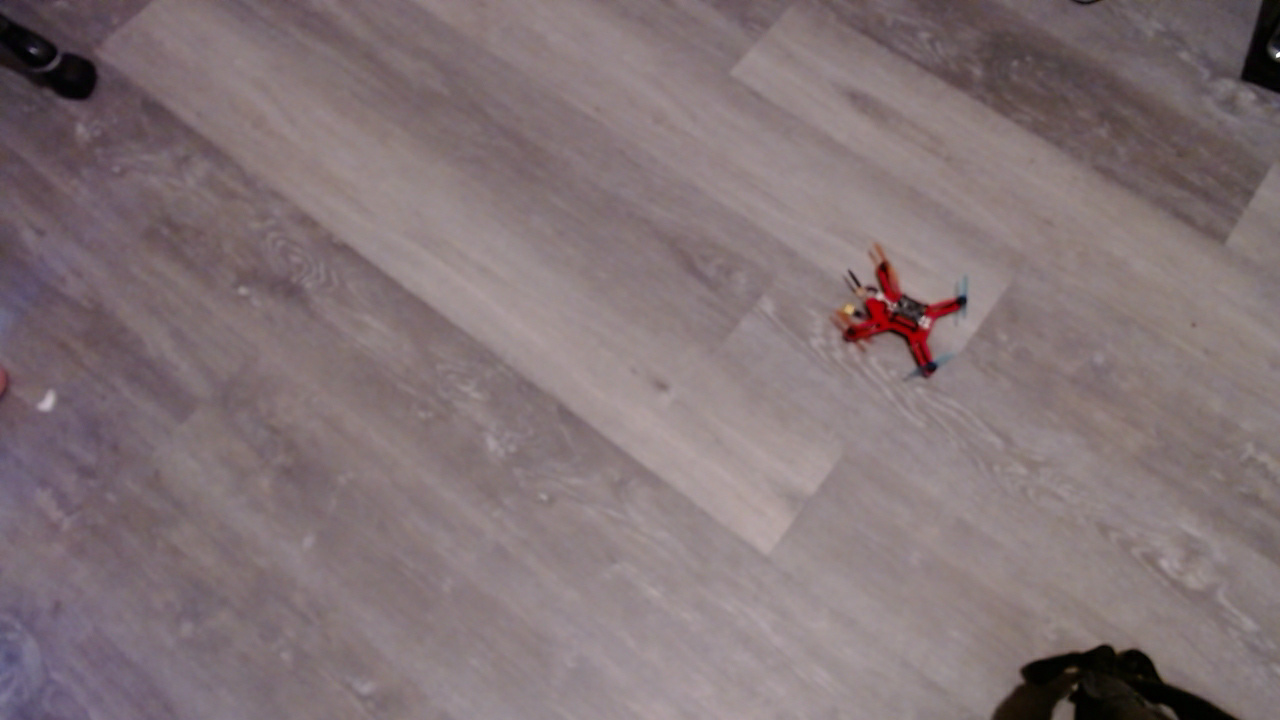crazyflie: (821, 242, 991, 396)
